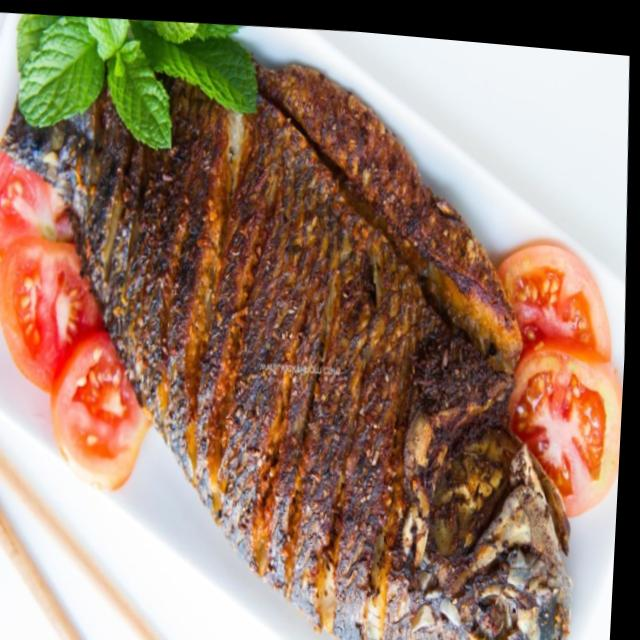FISH FRY: (4, 65, 569, 640)
